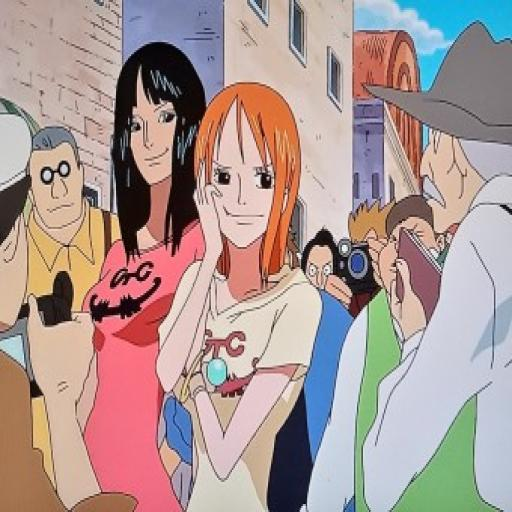Nami: (191, 78, 304, 262)
NicoRobin: (102, 30, 214, 231)
